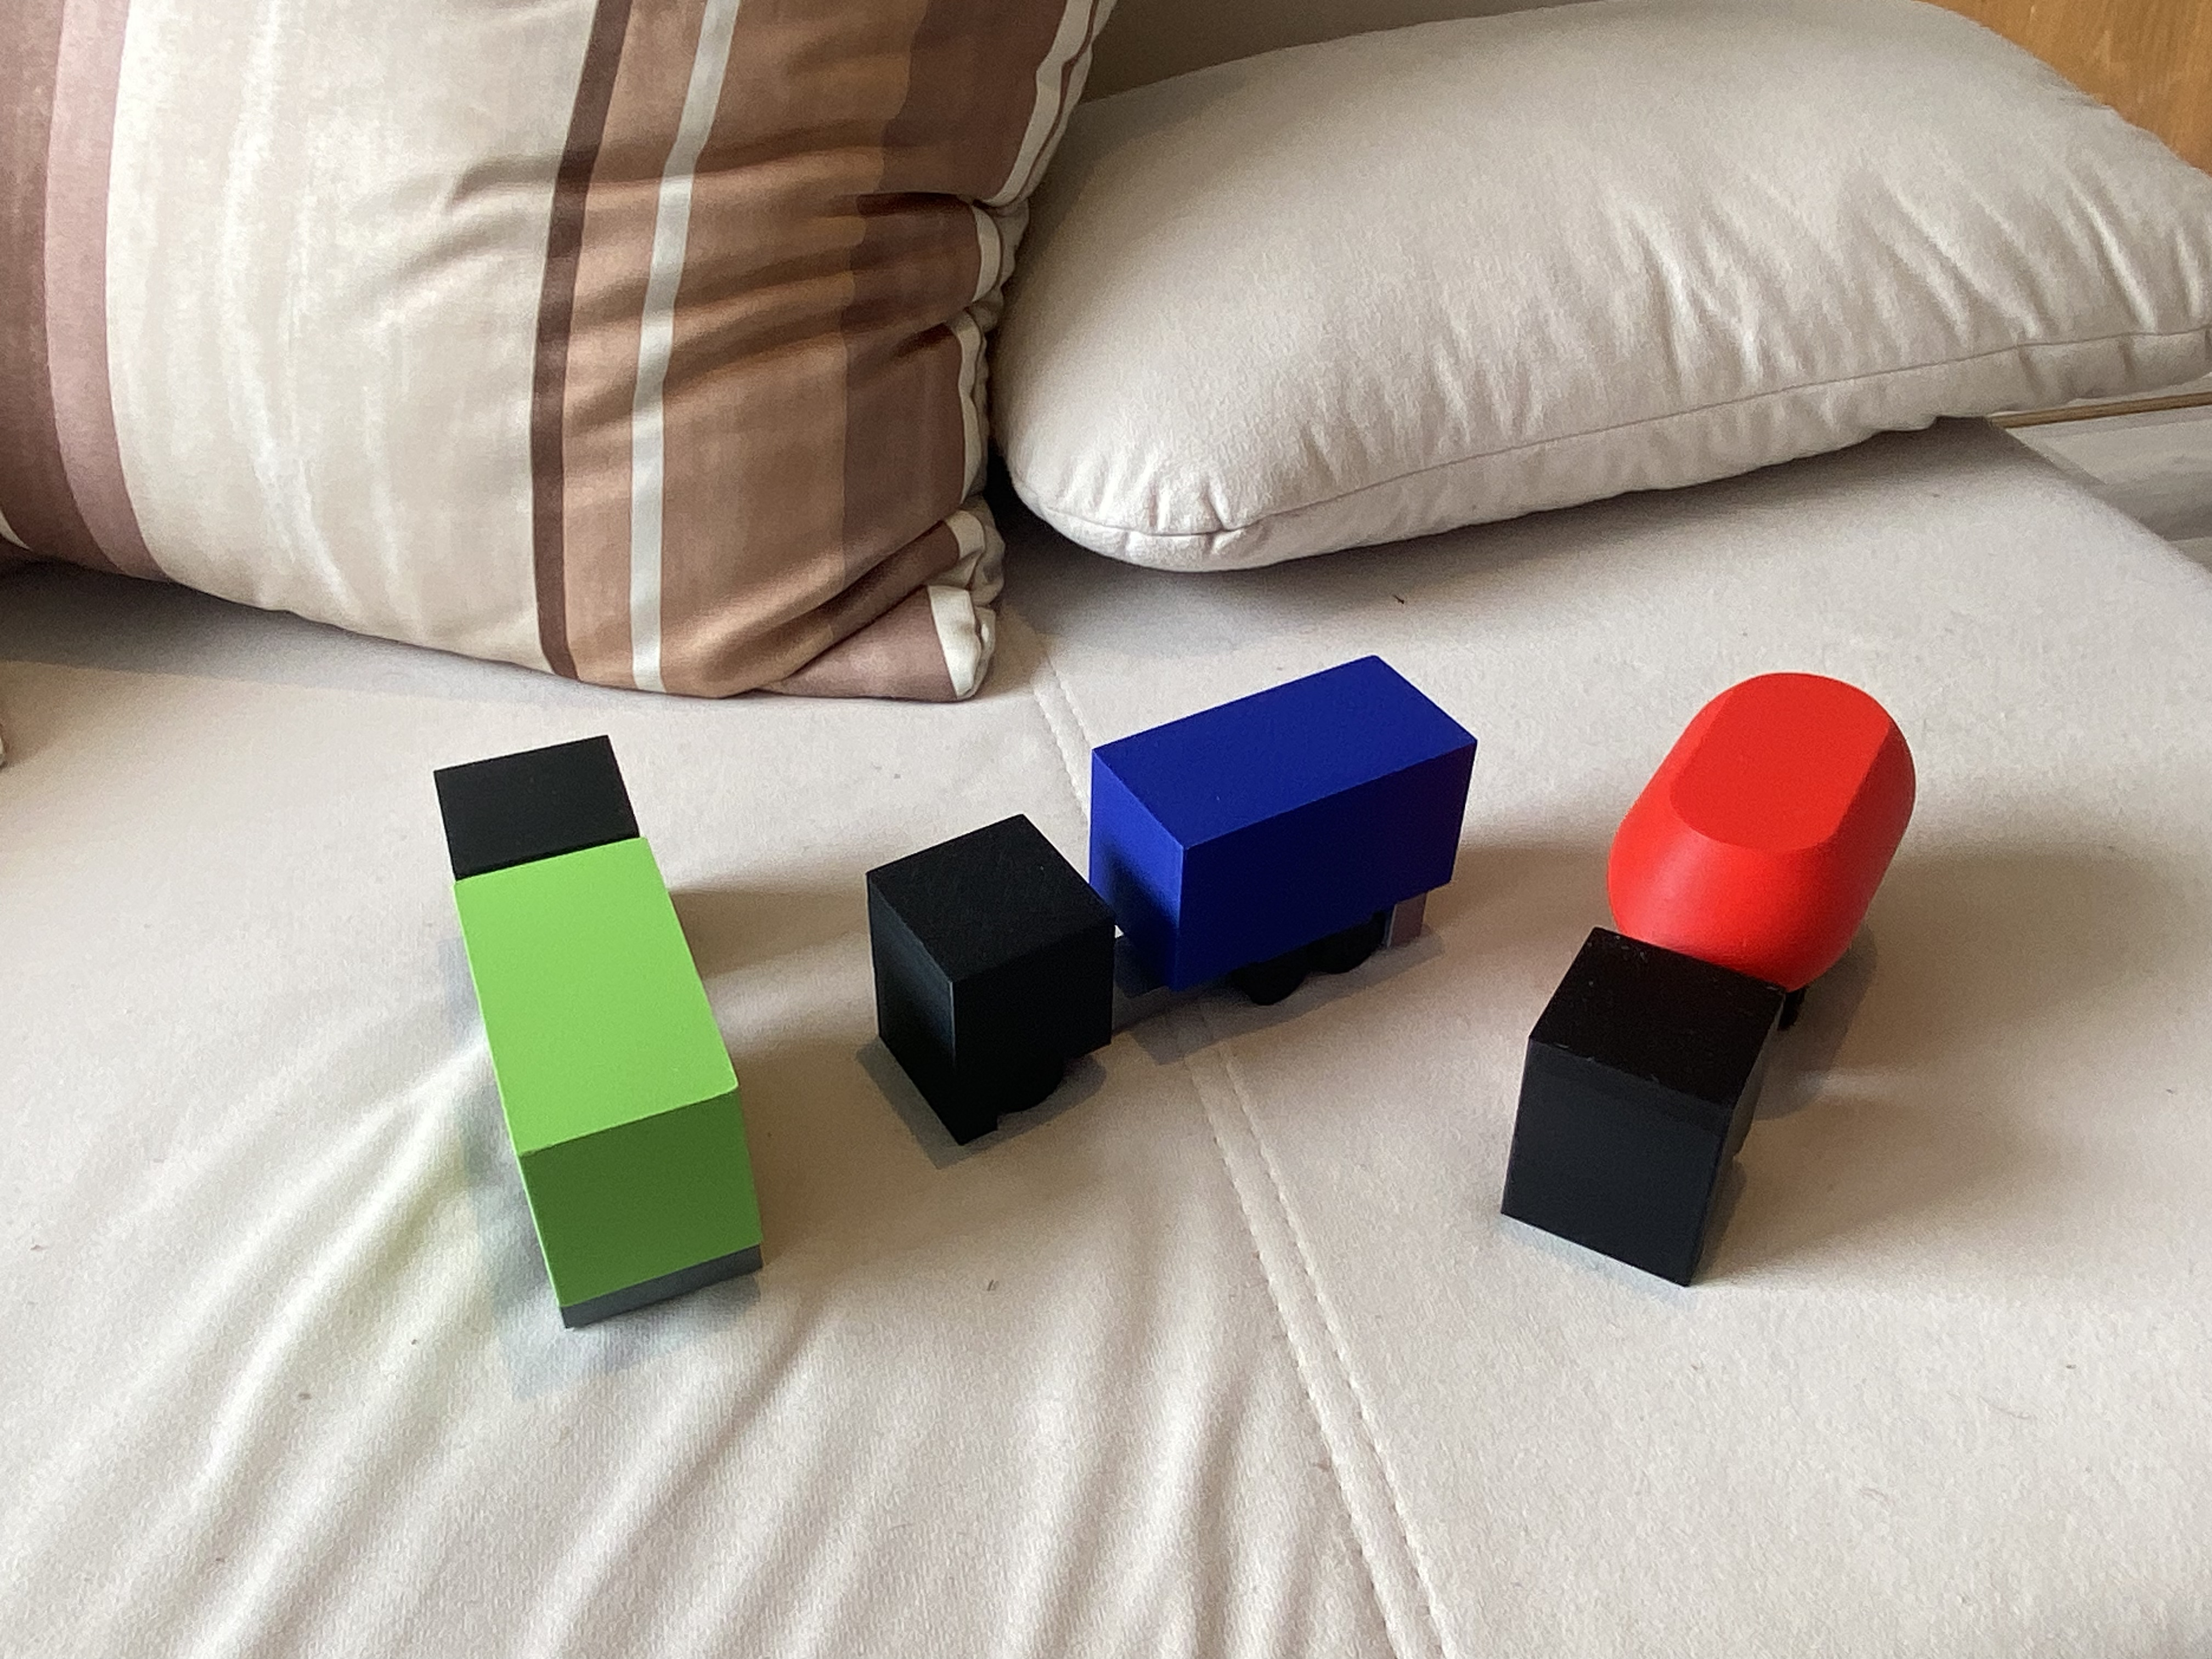blue_truck: (834, 708, 1510, 1054)
green_truck: (467, 735, 728, 1310)
red_truck: (1395, 812, 2031, 1122)
